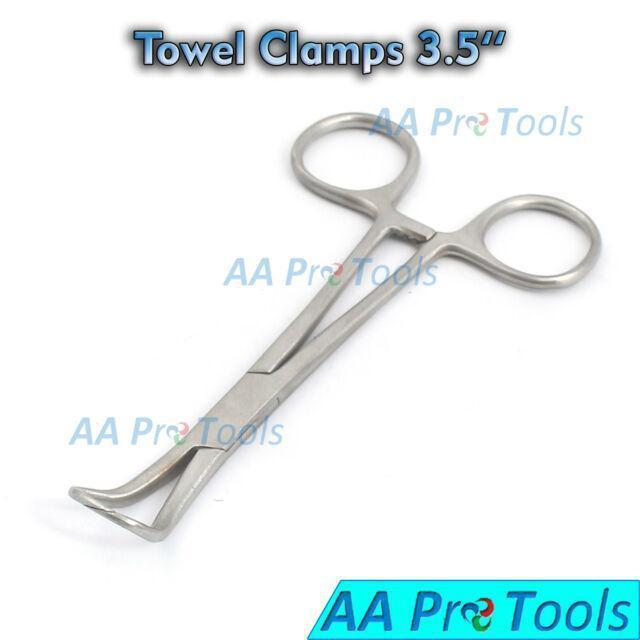Towel_clip: (73, 107, 605, 541)
